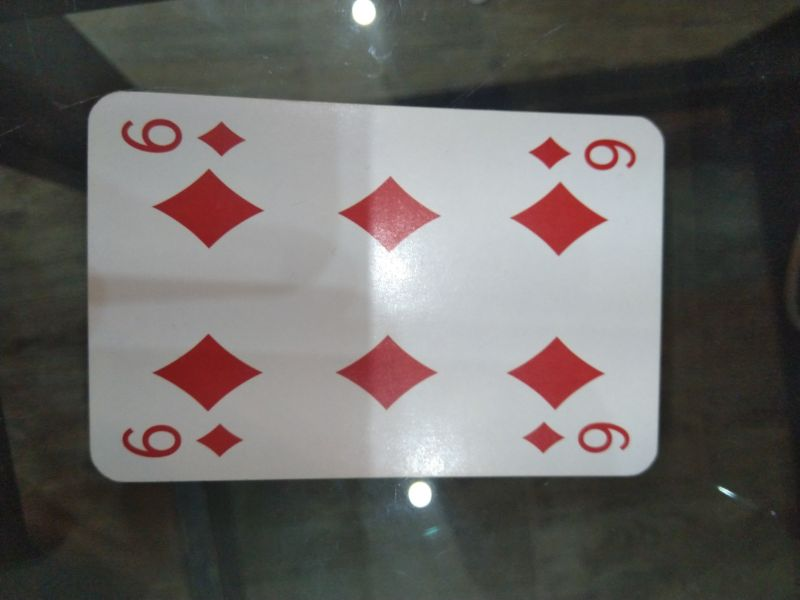6d: (112, 111, 252, 164), (117, 421, 249, 463), (524, 127, 641, 174), (518, 415, 637, 458)
